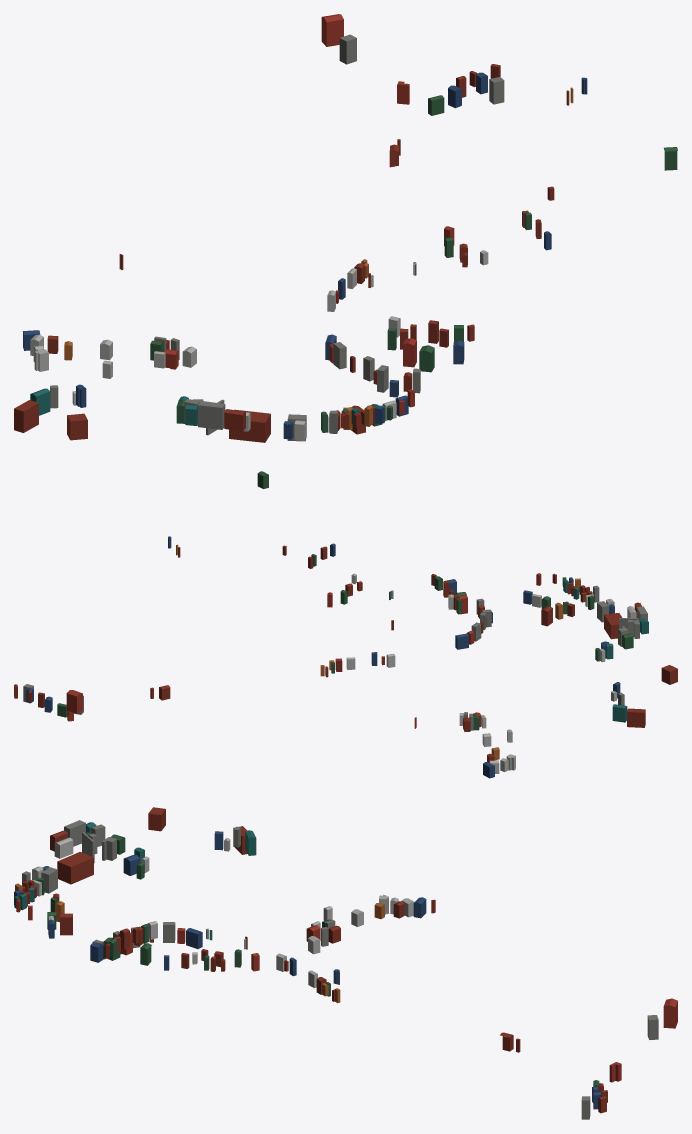
The model's file is near-15-27360-14880.42b4502f.glb.
The picture shows the model from 3 angles, top to bottom: view 1: azimuth 30°, elevation 25°; view 2: azimuth 150°, elevation 25°; view 3: azimuth 270°, elevation 25°; orthographic projection. The views are drawn at different scales.
Bounding box in the file's own units: 835 × 232 × 801.
